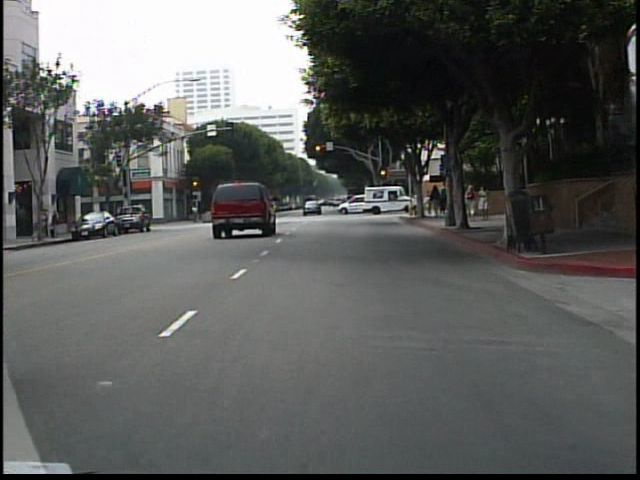person: (476, 181, 491, 223), (464, 183, 476, 222), (408, 188, 422, 220)
